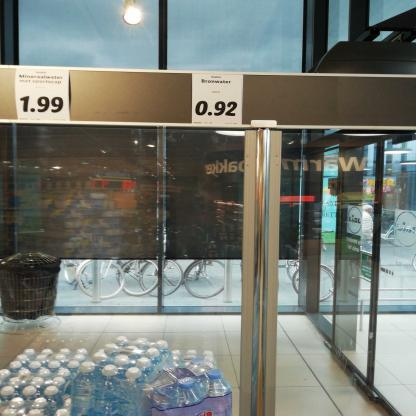prtg: (15, 70, 72, 122), (193, 75, 244, 126)
